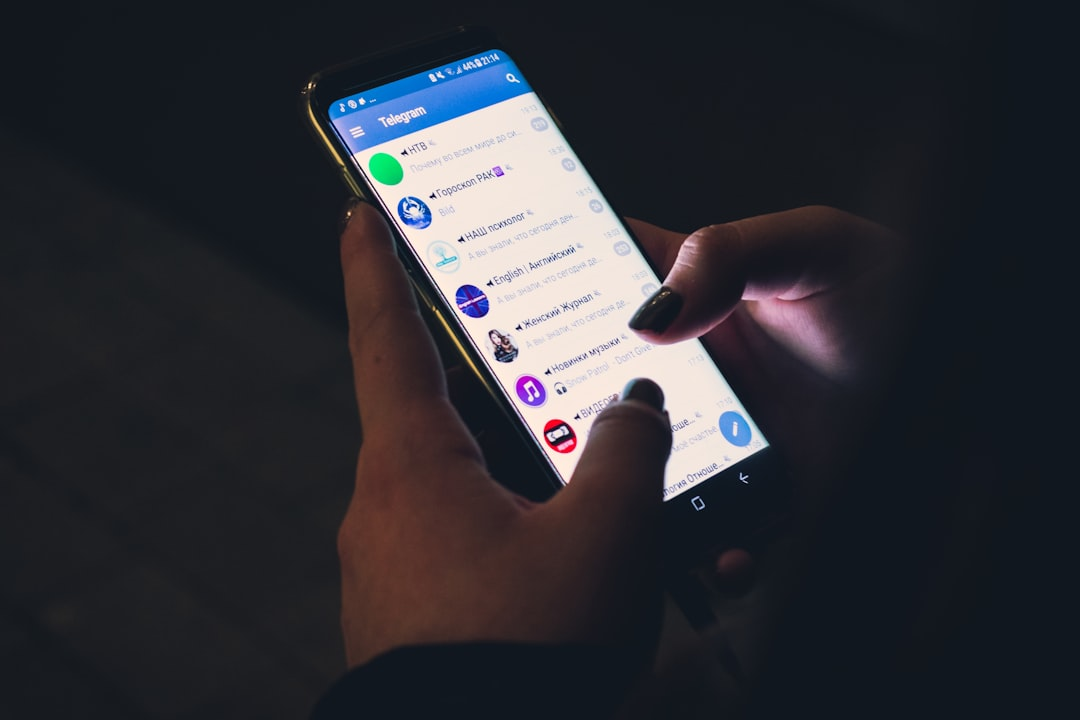phone: (296, 28, 786, 541)
